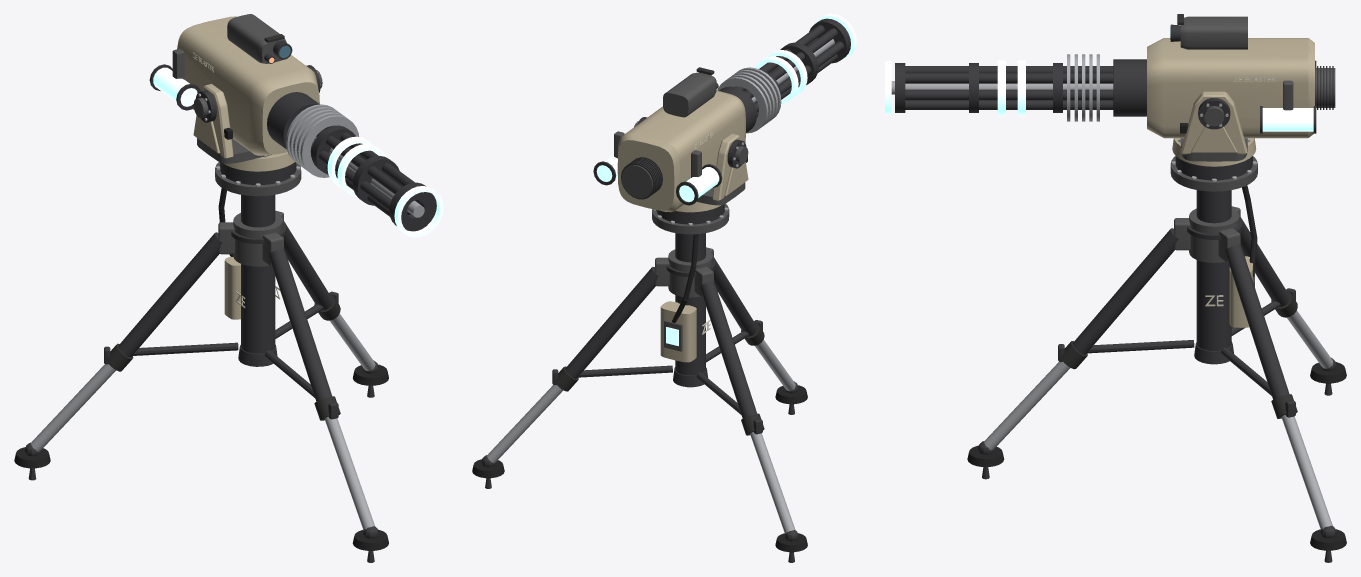
The model's file is zeblaster.glb.
3 renders of one model, left to right at view 1: azimuth 30°, elevation 25°; view 2: azimuth 150°, elevation 25°; view 3: azimuth 270°, elevation 25°, orthographic. The views are drawn at different scales.
Parts seen in each view (by area): view 1: Head, Base; view 2: Head, Base; view 3: Head, Base.
Boxes of the visible parts, <box> form: Head: <box>149,14,443,237</box>; Base: <box>14,162,388,562</box>; Head: <box>593,14,856,212</box>; Base: <box>472,203,807,562</box>; Head: <box>885,14,1335,166</box>; Base: <box>967,156,1346,562</box>.
Bounding box in the file's own units: 1.29 × 1.51 × 1.37.
